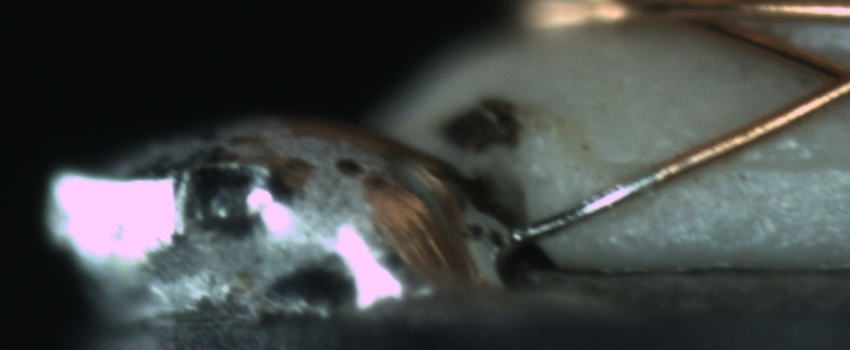CL: (801, 48, 850, 109)
DL: (692, 135, 849, 199)
TS: (507, 172, 659, 244)
